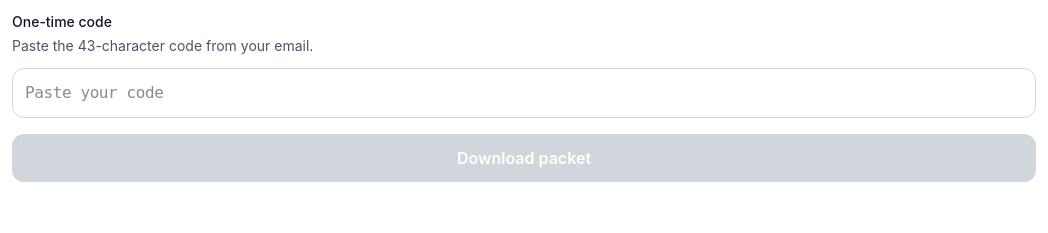
Test: refusals are coarse and the input is still cleared › shows a message for NOT_AVAILABLE
The image size is (1048, 233).
Type "Zm9vYmFyYmF6cXV1eGNvcmdlZ3JhdWx0Z2FycGx5Z2g" into the field labelled "One-time code". click: (524, 93)
box: [12,68,1036,118]
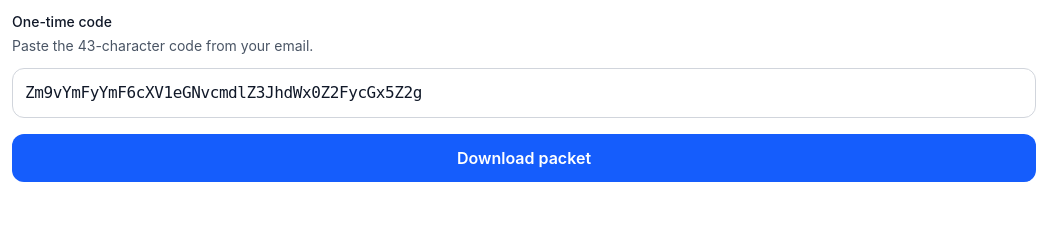
Click the button "Download packet". click: (524, 158)
box: [12,134,1036,182]
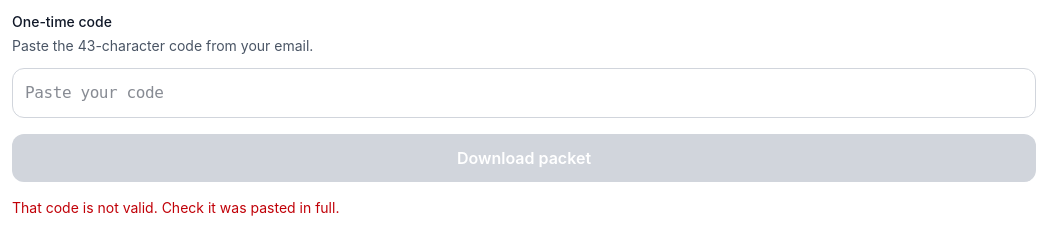
Now the text "That code is not valid. Check it was pasted in full." is shown, box [12,199,339,216]
Now the field labelled "One-time code" is empty, box [12,68,1036,118]
